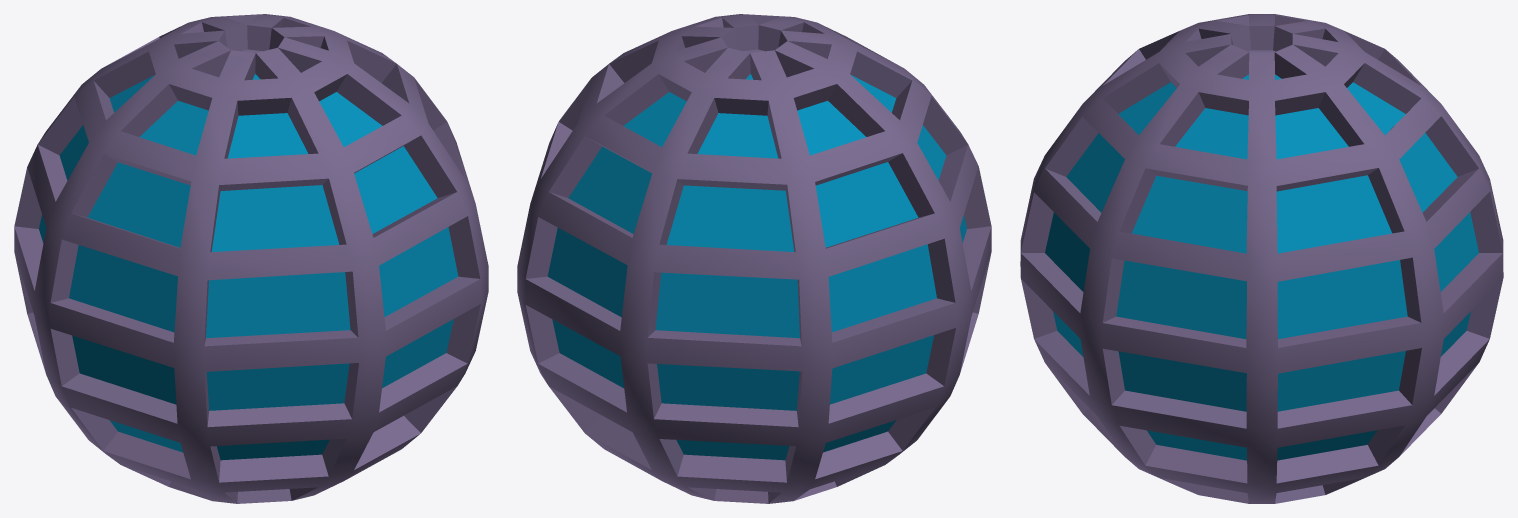
File: web.gltf
The picture shows the model from 3 angles, left to right: view 1: azimuth 30°, elevation 25°; view 2: azimuth 150°, elevation 25°; view 3: azimuth 270°, elevation 25°; orthographic projection.
Parts seen in each view (by area): view 1: pSphere1; view 2: pSphere1; view 3: pSphere1.
Part boxes in pixels (left/top/right/bottom): pSphere1: left=14, top=14, right=488, bottom=503; pSphere1: left=517, top=14, right=991, bottom=503; pSphere1: left=1020, top=14, right=1503, bottom=503.
Bounding box in the file's own units: 5.15 × 5.17 × 5.15.
